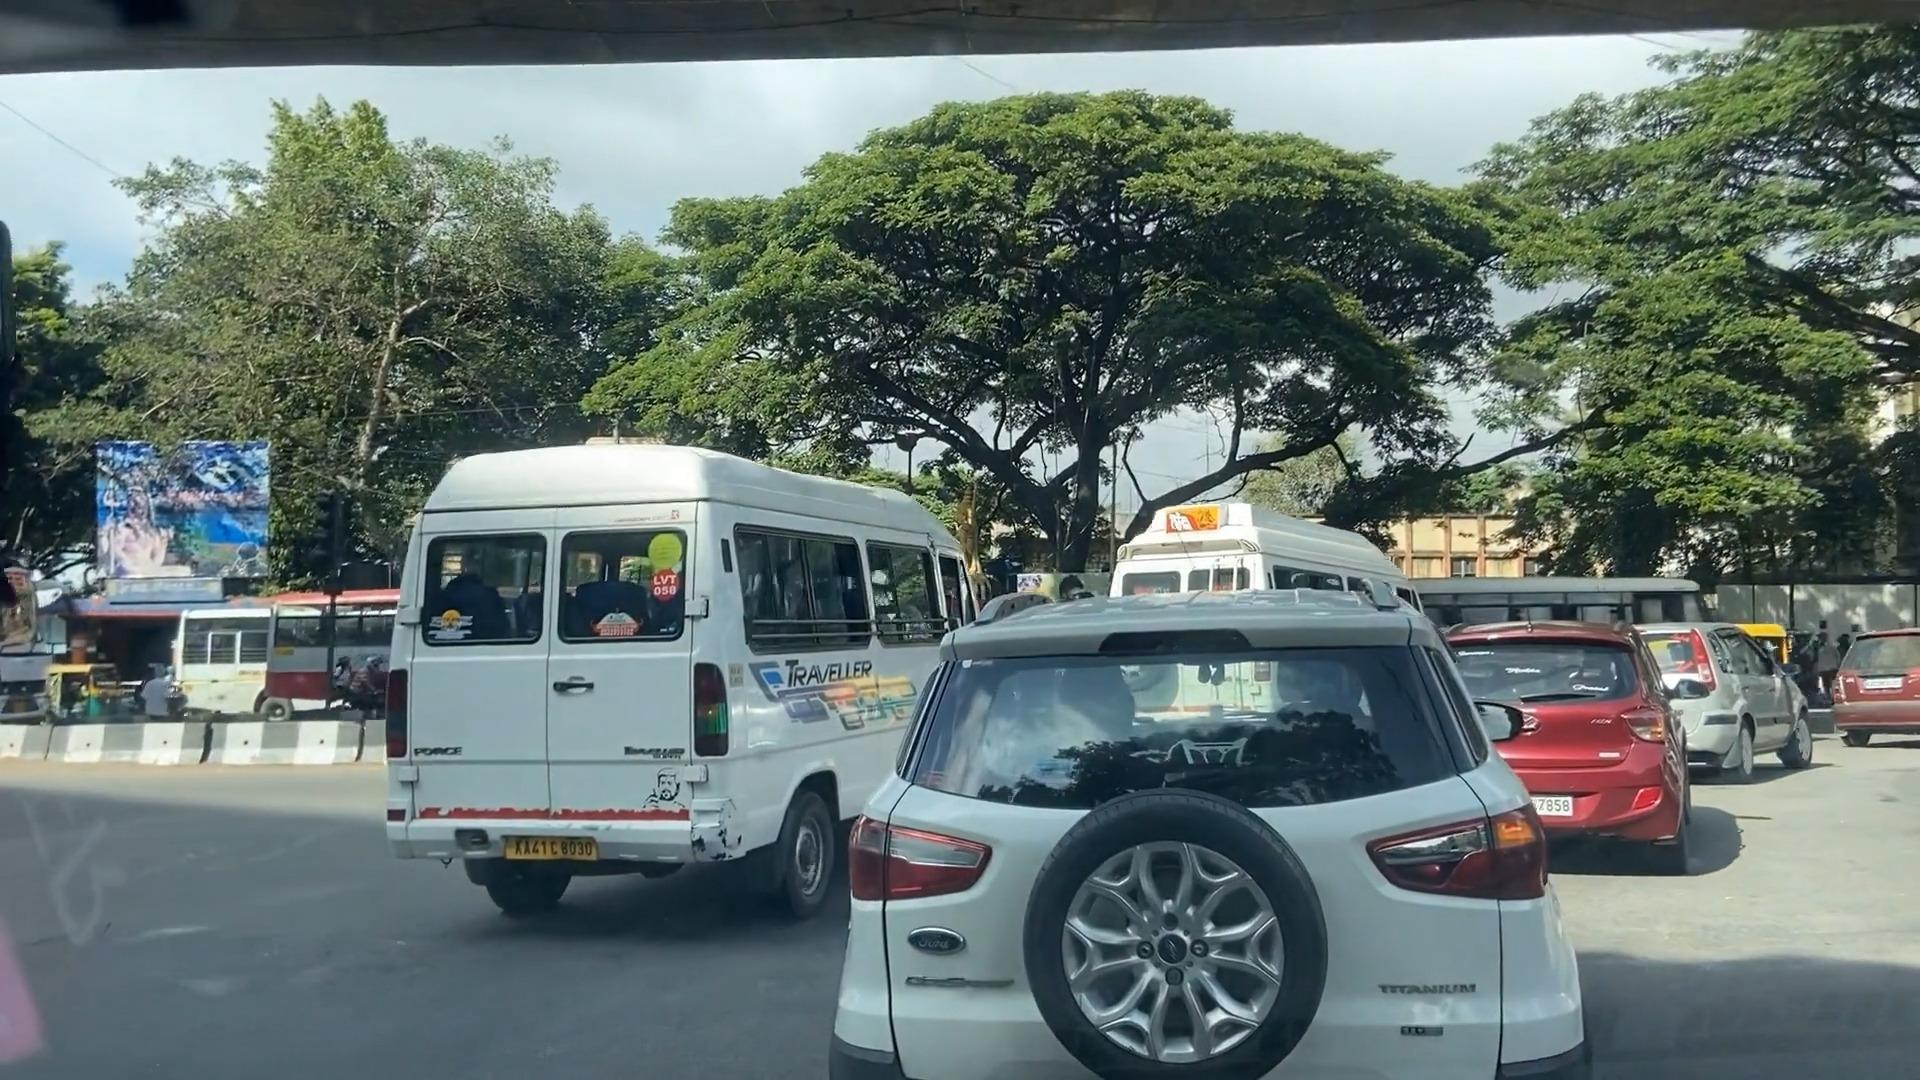HMV: (413, 496, 872, 881)
LMV: (910, 638, 1542, 1080), (1478, 593, 1687, 847)
